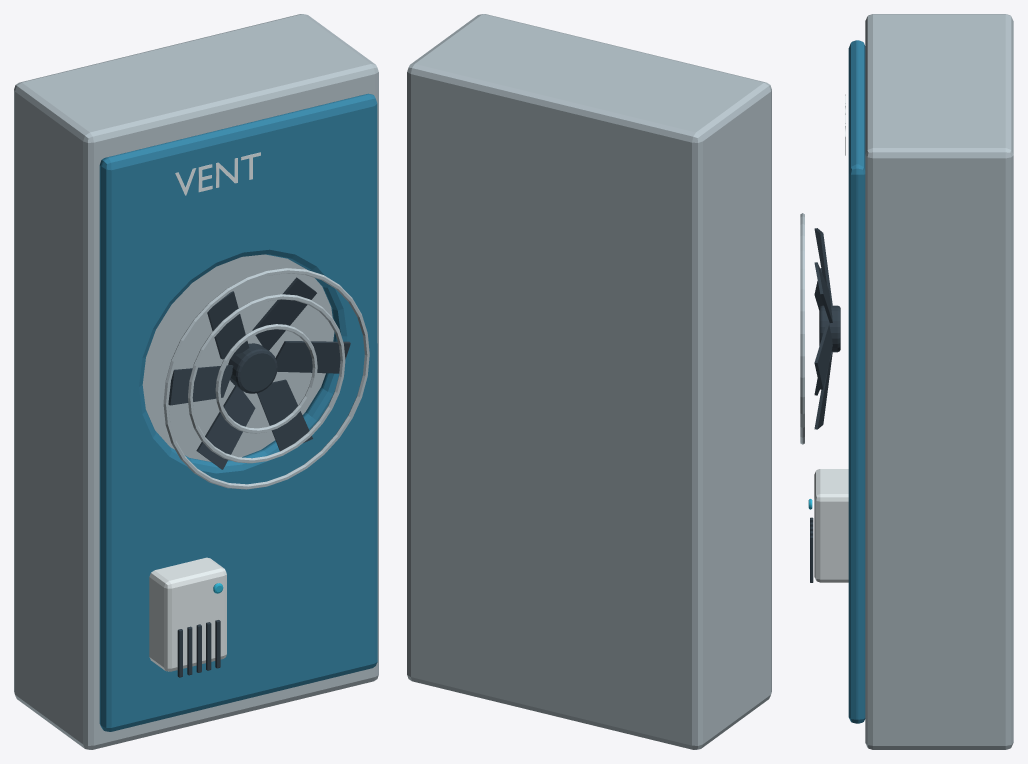
File: warehouseVent.glb
3 views of the same model, side by side, from view 1: azimuth 30°, elevation 25°; view 2: azimuth 150°, elevation 25°; view 3: azimuth 270°, elevation 25° (orthographic). The views are drawn at different scales.
Parts seen in each view (by area): view 1: Fan intake panel, Fan enclosure, Temperature probe enclosure, Fan safety guard.002, Fan safety guard.001, Fan blade.004, Fan blade.005, Fan blade, Fan safety guard, Rotor hub, Fan blade.003, Fan blade.001 (+3 smaller); view 2: Fan enclosure; view 3: Fan enclosure, Fan intake panel, Temperature probe enclosure, Fan safety guard.002, Rotor hub, Fan blade, Fan blade.002, Fan blade.005, Fan blade.001.
Boxes of the visible parts, box(x1,y1,x2,y2) form: Fan intake panel: box(99, 93, 377, 731); Fan enclosure: box(14, 14, 378, 749); Temperature probe enclosure: box(149, 557, 226, 671); Fan safety guard.002: box(163, 268, 369, 489); Fan safety guard.001: box(188, 294, 345, 463); Fan blade.004: box(196, 385, 255, 469); Fan blade.005: box(257, 379, 312, 451); Fan blade: box(275, 341, 350, 373); Fan safety guard: box(215, 324, 317, 433); Rotor hub: box(228, 343, 277, 393); Fan blade.003: box(168, 365, 233, 405); Fan blade.001: box(252, 277, 316, 350); Fan enclosure: box(407, 14, 771, 749); Fan enclosure: box(865, 14, 1013, 749); Fan intake panel: box(848, 40, 865, 723); Temperature probe enclosure: box(814, 469, 848, 582); Fan safety guard.002: box(800, 213, 804, 444); Rotor hub: box(819, 305, 840, 352); Fan blade: box(814, 324, 832, 389); Fan blade.002: box(814, 228, 832, 306); Fan blade.005: box(814, 352, 832, 429); Fan blade.001: box(814, 262, 832, 322).
Size of the model in its own units: 0.85 by 1.7 by 0.5461.
